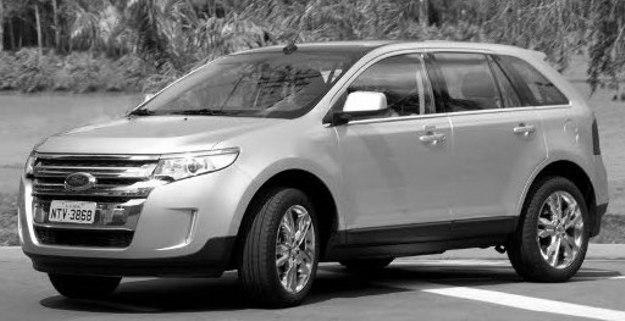car: (22, 41, 612, 307)
